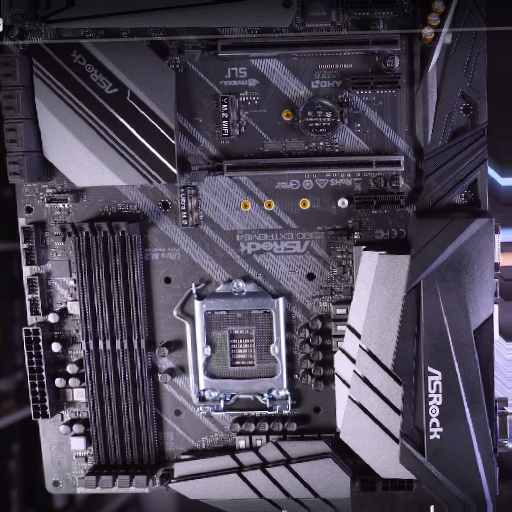CPU: (193, 278, 291, 407)
GPU: (179, 33, 407, 66), (186, 152, 405, 184)
MOTHERBOARD: (5, 4, 500, 508)
RAM: (62, 219, 164, 487)
SSD: (216, 91, 243, 142), (177, 184, 202, 229)
